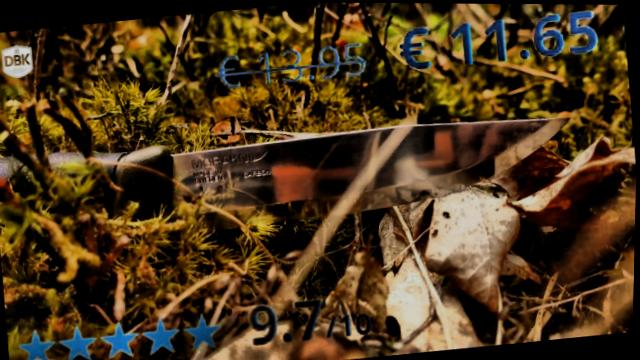knife: (103, 90, 587, 232)
